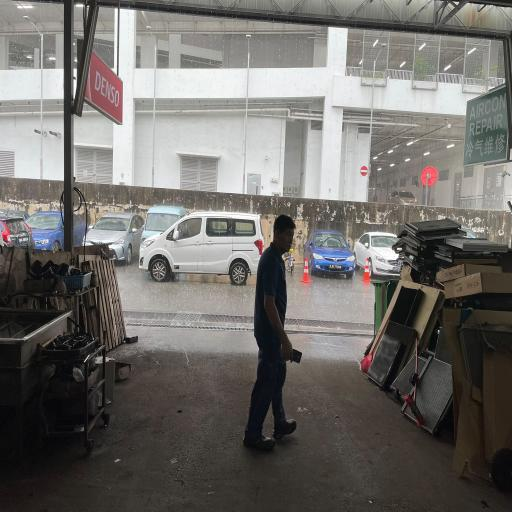person_right: (240, 200, 312, 462)
